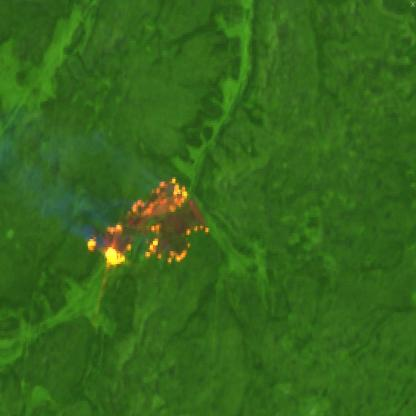fire: (84, 174, 213, 270)
